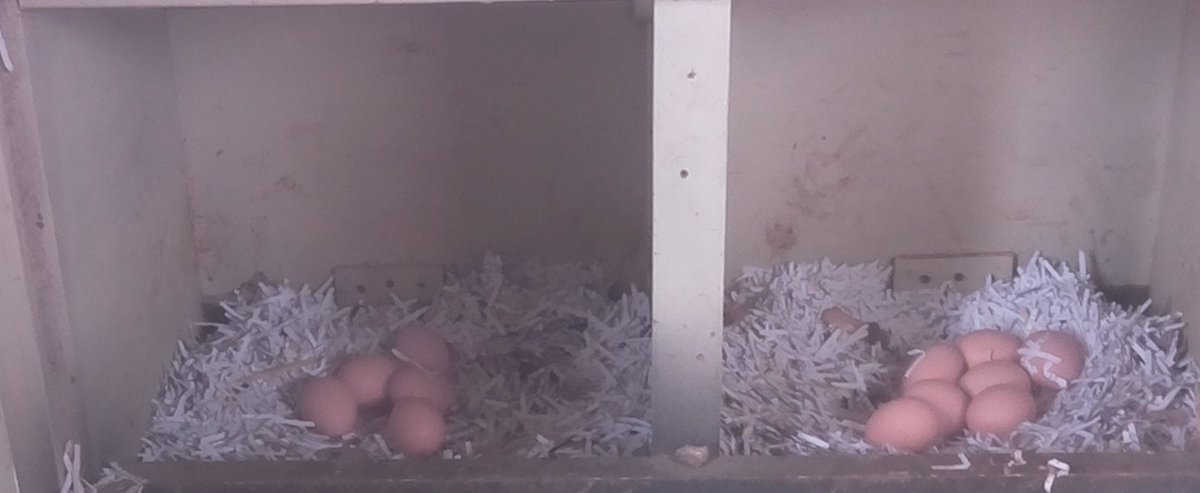egg: (1016, 324, 1092, 400), (864, 395, 947, 461), (962, 380, 1037, 451), (894, 378, 972, 442), (294, 371, 363, 437), (328, 350, 399, 412), (381, 396, 453, 457), (380, 362, 457, 416), (389, 320, 466, 374), (957, 321, 1023, 376), (898, 339, 967, 387), (961, 359, 1034, 396)
